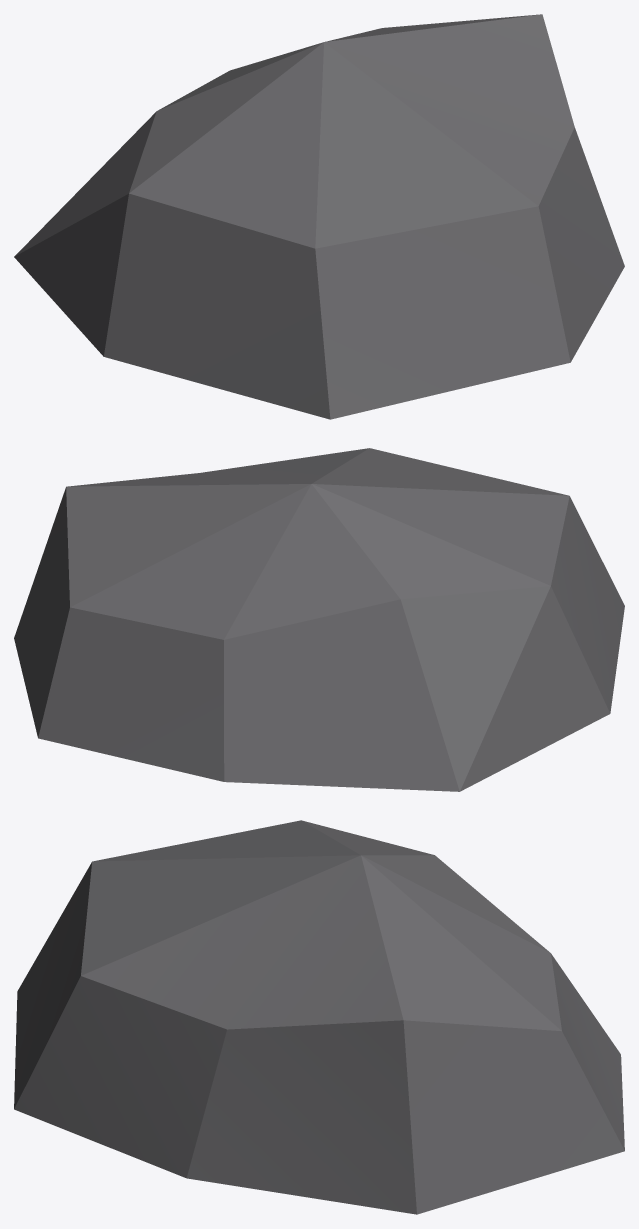
The model's file is Piedra_06.glb.
3 views of the same model, one above another, from view 1: azimuth 30°, elevation 25°; view 2: azimuth 150°, elevation 25°; view 3: azimuth 270°, elevation 25° (orthographic). The views are drawn at different scales.
Visible parts, largest first — view 1: SM_Env_Stone_01_1; view 2: SM_Env_Stone_01_1; view 3: SM_Env_Stone_01_1.
Boxes of the visible parts, x1,y1,x2,y2 form: SM_Env_Stone_01_1: (14,14,624,419); SM_Env_Stone_01_1: (14,448,624,791); SM_Env_Stone_01_1: (14,820,624,1214).
Bounding box in the file's own units: 0.5582 × 0.2048 × 0.5231.
Materials: 1 (1 with a texture image).
